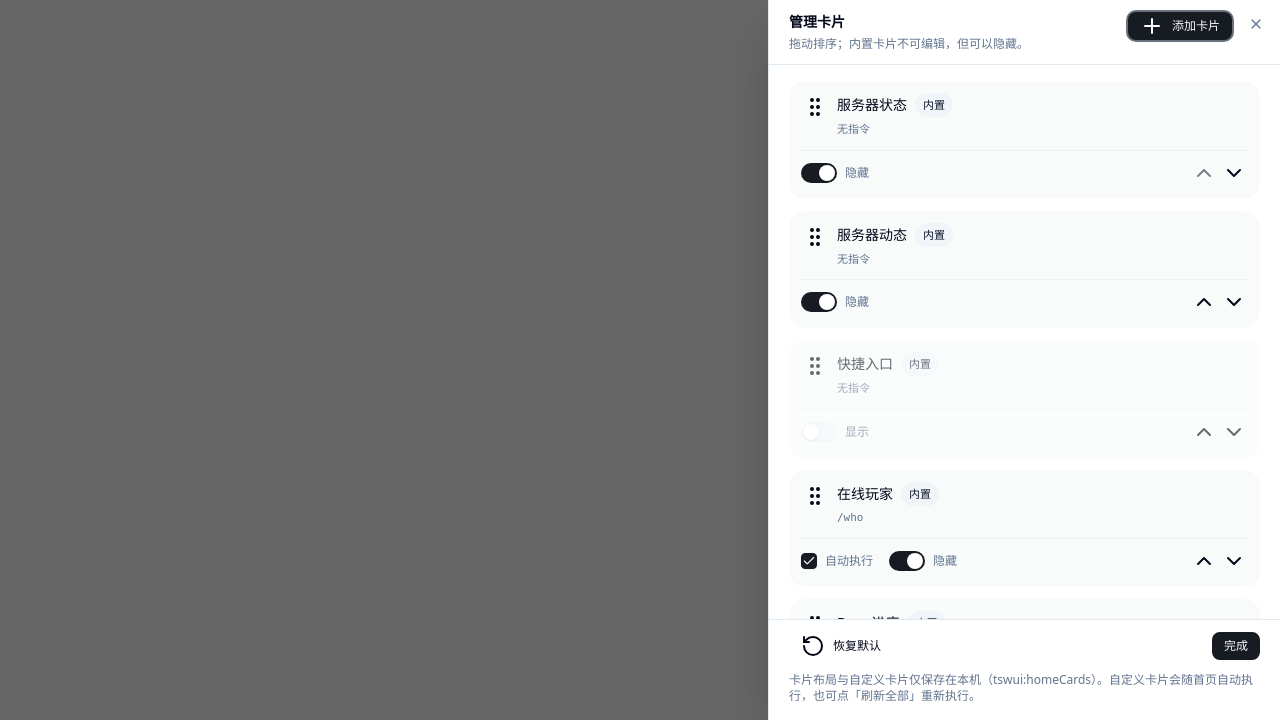
Test: HomeCardManager › 添加表单默认收起，自动执行使用 Checkbox
This screenshot has width=1280, height=720.
Check: the field labelled "卡片名称" is not shown
Click the button "添加卡片" at (1180, 26), box [1128, 12, 1232, 40]
(page scrolled)
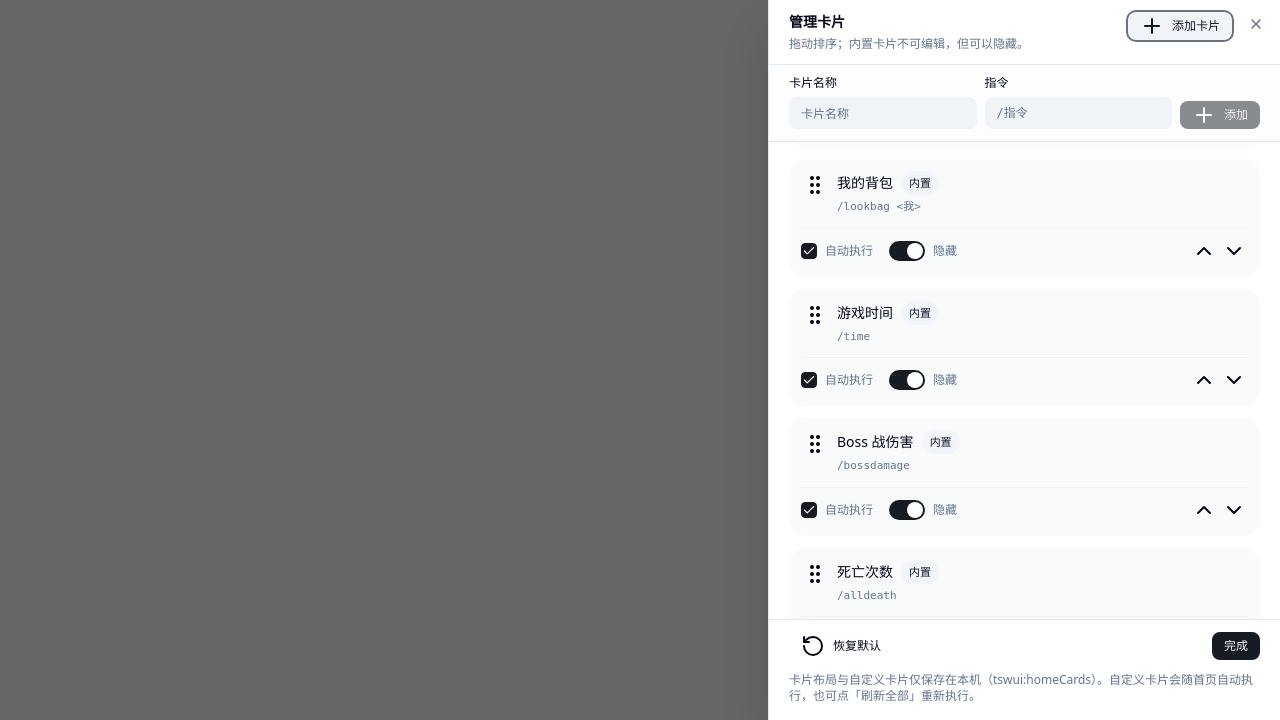
Check: the field labelled "卡片名称" is shown, box [789, 97, 976, 129]
